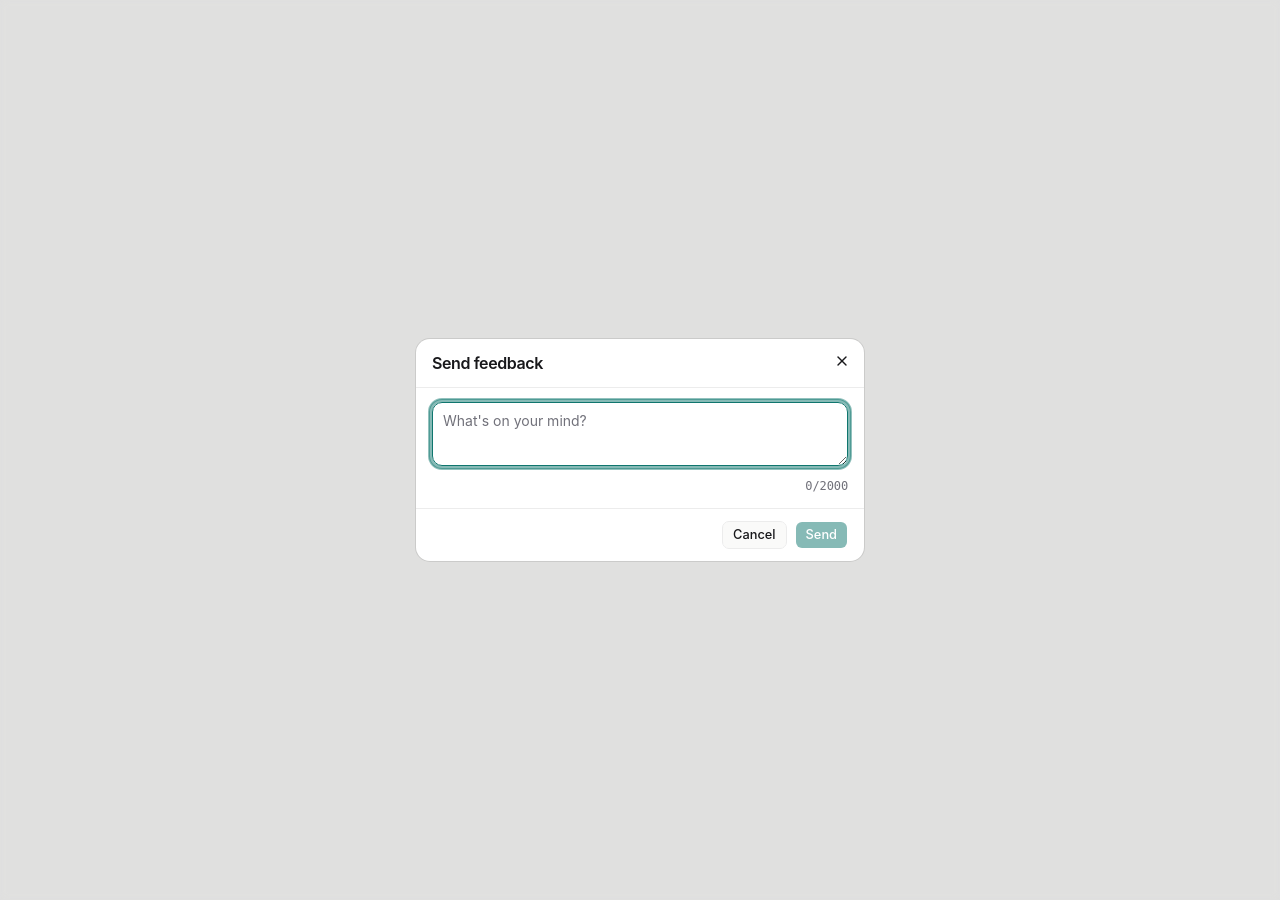
FeedbackModal › enables Send once the user types non-whitespace text
Type "Love this app!" into the text box named "Feedback" at (640, 434), box top-left (432, 402), bottom-right (848, 466)
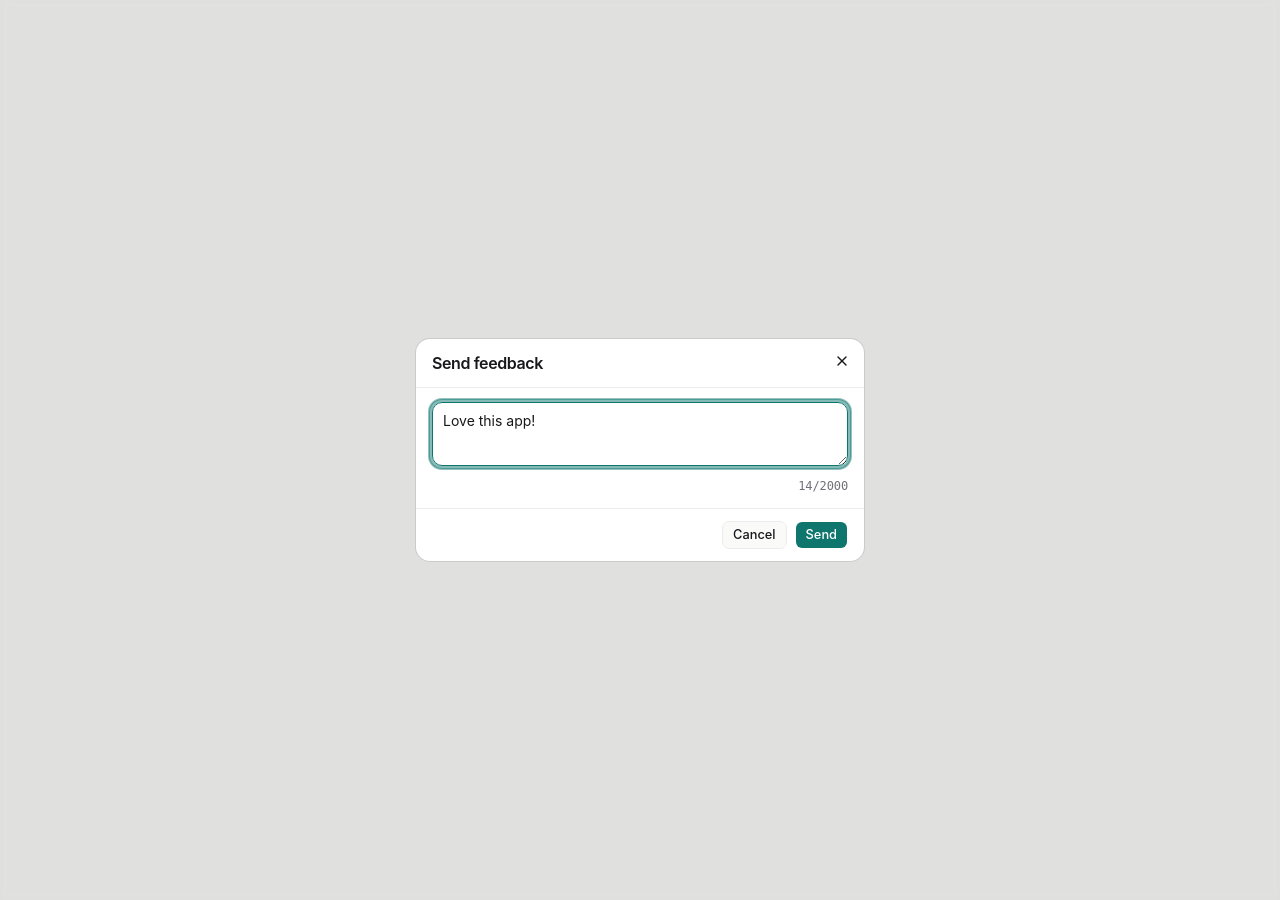
Check: the button "Send" is enabled, box top-left (795, 521), bottom-right (848, 549)
